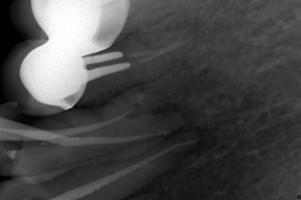Furcation Involvement: (151, 102, 218, 160), (163, 16, 209, 40)
